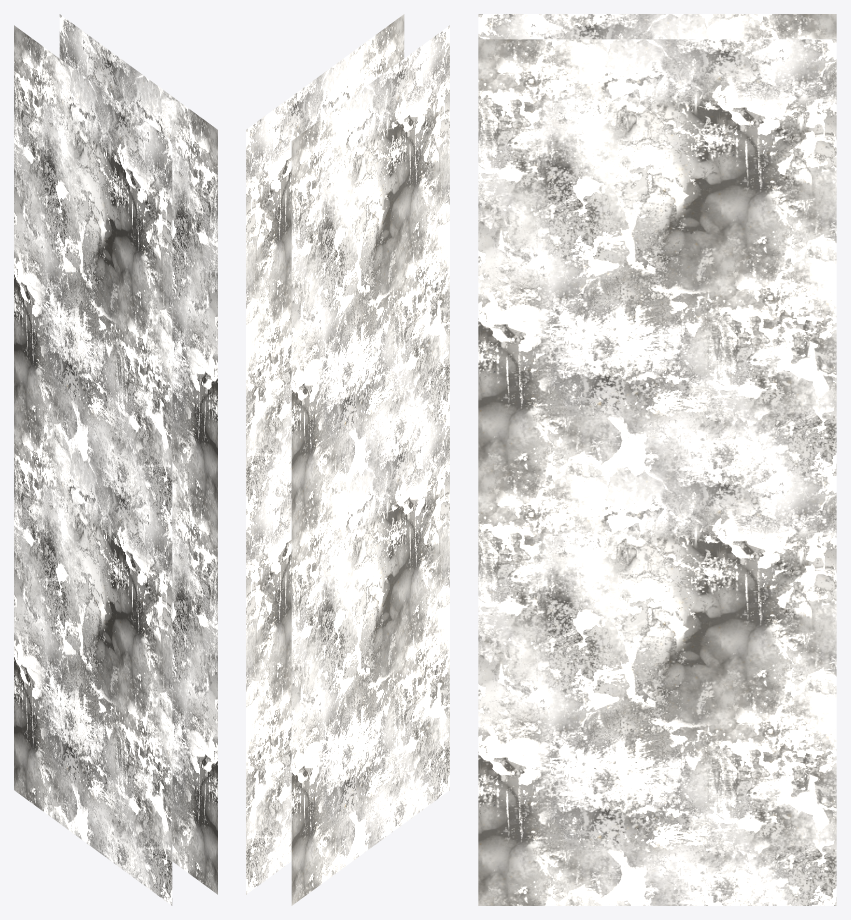
File: SM_wall_A_int_1-5x4_01_01.fbx
3 views of the same model, side by side, from view 1: azimuth 30°, elevation 25°; view 2: azimuth 150°, elevation 25°; view 3: azimuth 270°, elevation 25° (orthographic). The views are drawn at different scales.
Parts seen in each view (by area): view 1: SM_wall_A_int_1-5x4_01_01_LOD0; view 2: SM_wall_A_int_1-5x4_01_01_LOD0; view 3: SM_wall_A_int_1-5x4_01_01_LOD0.
Boxes of the visible parts, x1,y1,x2,y2 form: SM_wall_A_int_1-5x4_01_01_LOD0: (14,14,217,905); SM_wall_A_int_1-5x4_01_01_LOD0: (246,14,449,905); SM_wall_A_int_1-5x4_01_01_LOD0: (478,14,836,905).
Size of the model in its own units: 25 by 150 by 400.
Materials: 1 (1 with a texture image).
